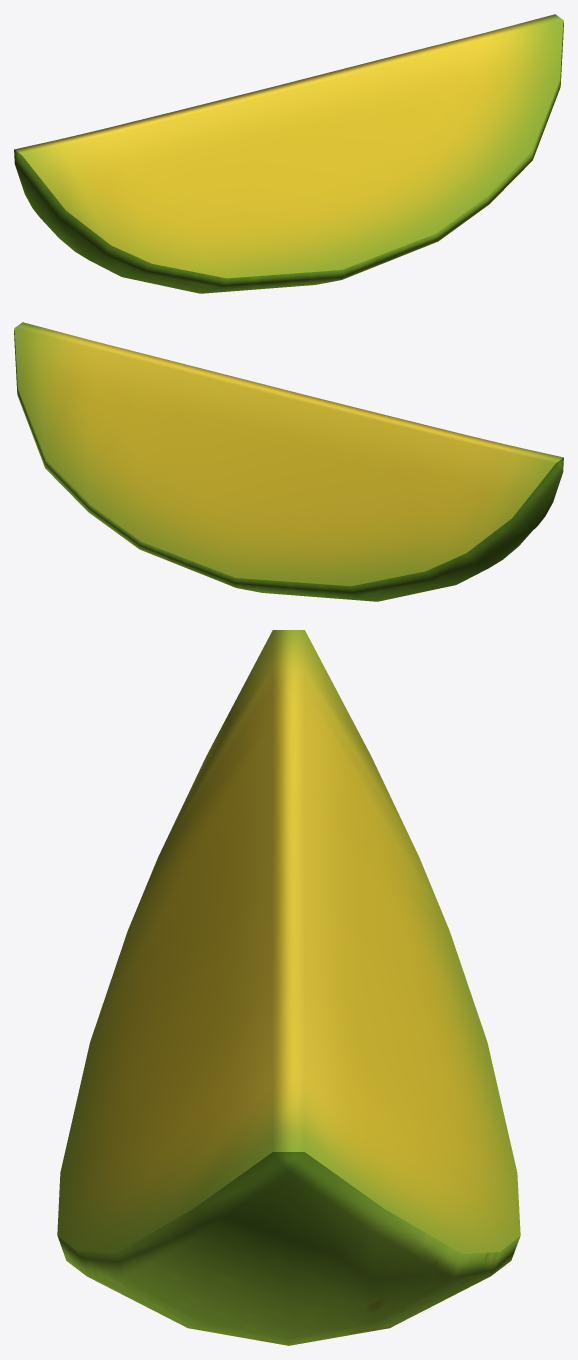
Rendered from Mango_Green_Slice.fbx.
The picture shows the model from 3 angles, top to bottom: view 1: azimuth 30°, elevation 25°; view 2: azimuth 150°, elevation 25°; view 3: azimuth 270°, elevation 25°; orthographic projection. The views are drawn at different scales.
Parts seen in each view (by area): view 1: Mango_Green_Slice; view 2: Mango_Green_Slice; view 3: Mango_Green_Slice.
Boxes of the visible parts, box(x1,y1,x2,y2) form: Mango_Green_Slice: box(14, 14, 563, 293); Mango_Green_Slice: box(14, 322, 563, 601); Mango_Green_Slice: box(57, 630, 520, 1345).
Size of the model in its own units: 40.95 by 13.66 by 14.96.
